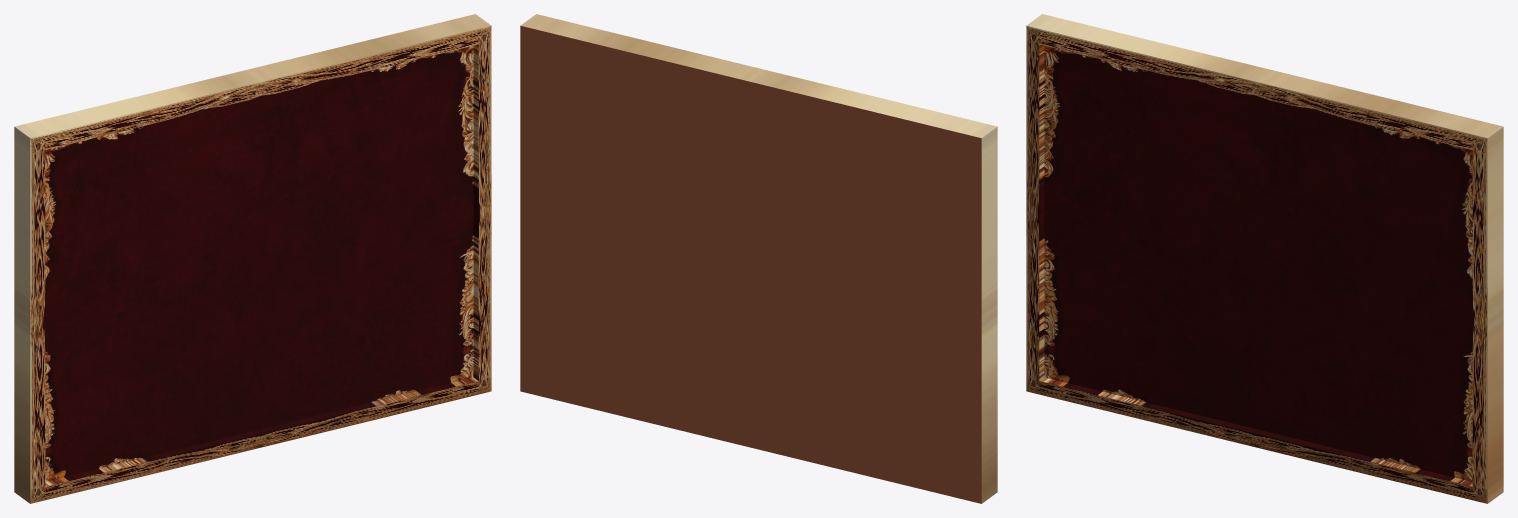
The model's file is panel_intro.glb.
3 views of the same model, side by side, from view 1: azimuth 30°, elevation 25°; view 2: azimuth 150°, elevation 25°; view 3: azimuth 330°, elevation 25° (orthographic).
Parts seen in each view (by area): view 1: panel_intro; view 2: panel_intro; view 3: panel_intro.
Part boxes in pixels (box(x1,y1,x2,y2)): panel_intro: box(14, 14, 491, 503); panel_intro: box(520, 14, 997, 503); panel_intro: box(1026, 14, 1503, 503).
Bounding box in the file's own units: 0.66 × 0.5 × 0.042.
Materials: 1 (1 with a texture image).
